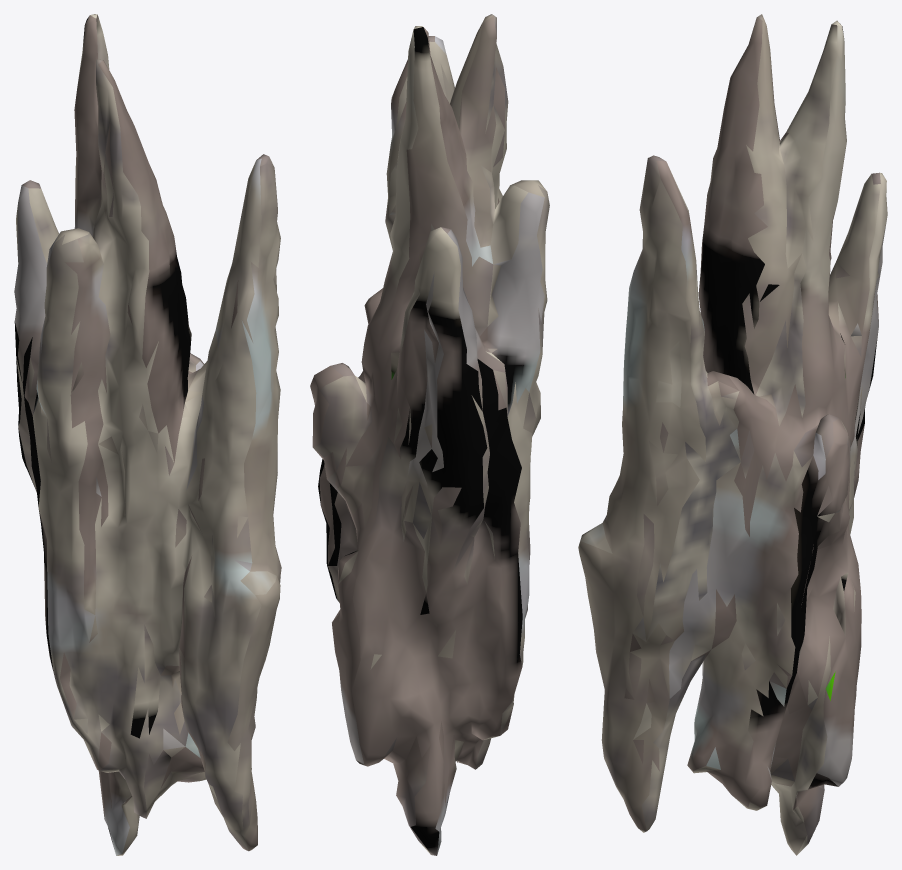
File: Structure-13.fbx
3 renders of one model, left to right at view 1: azimuth 30°, elevation 25°; view 2: azimuth 150°, elevation 25°; view 3: azimuth 270°, elevation 25°, orthographic. The views are drawn at different scales.
Visible parts, largest first — view 1: Structure-13; view 2: Structure-13; view 3: Structure-13.
Part boxes in pixels (left/top/right/bottom): Structure-13: left=14, top=14, right=281, bottom=855; Structure-13: left=310, top=14, right=549, bottom=855; Structure-13: left=578, top=14, right=887, bottom=855.
Size of the model in its own units: 1.85 by 7.11 by 2.4.
